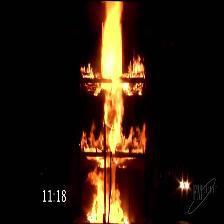fire: (74, 4, 145, 222)
